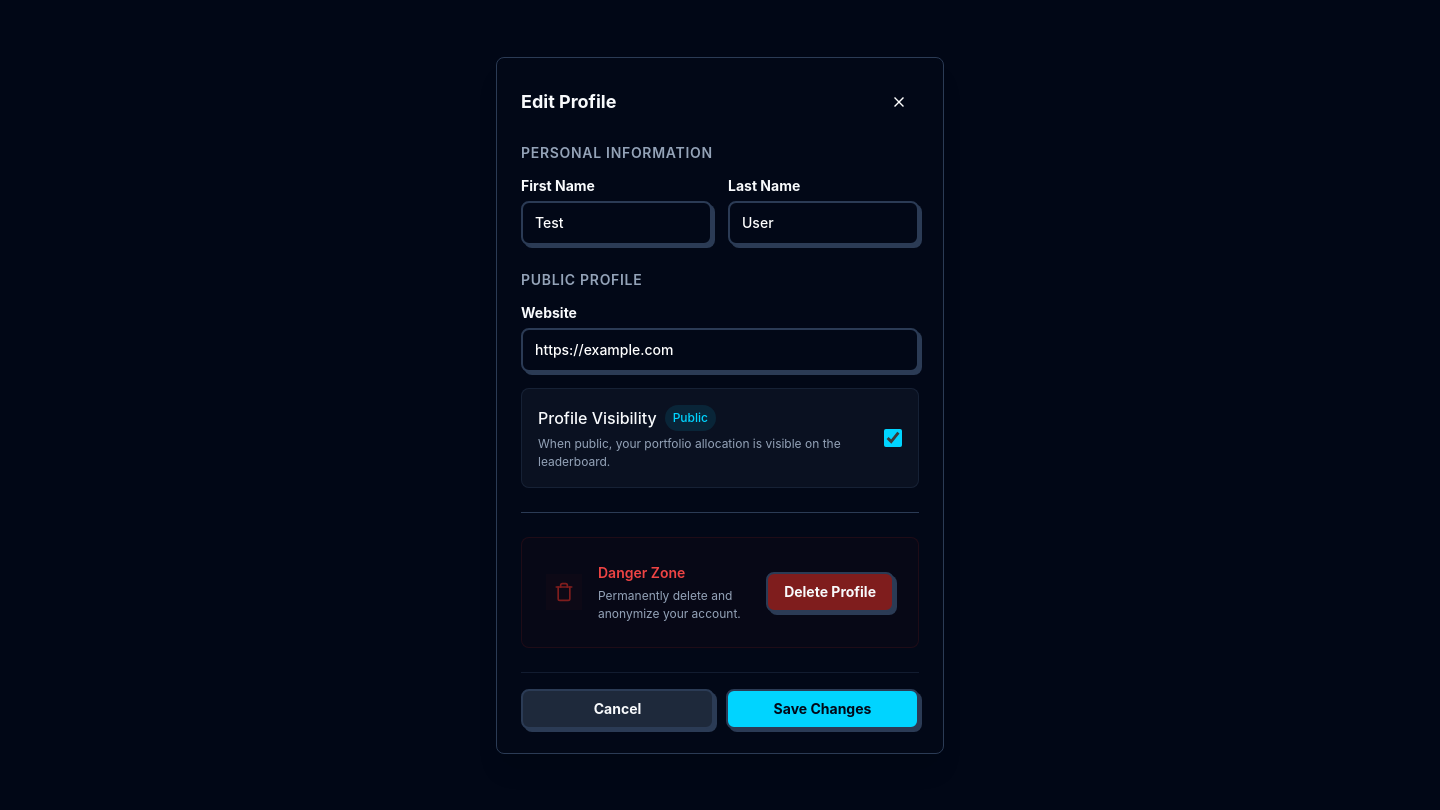
Test: EditProfileModal › renders backend error using ErrorMessage when profile update fails
Clear the field with test id "first-name-input" at (616, 222), box top-left (521, 200), bottom-right (712, 244)
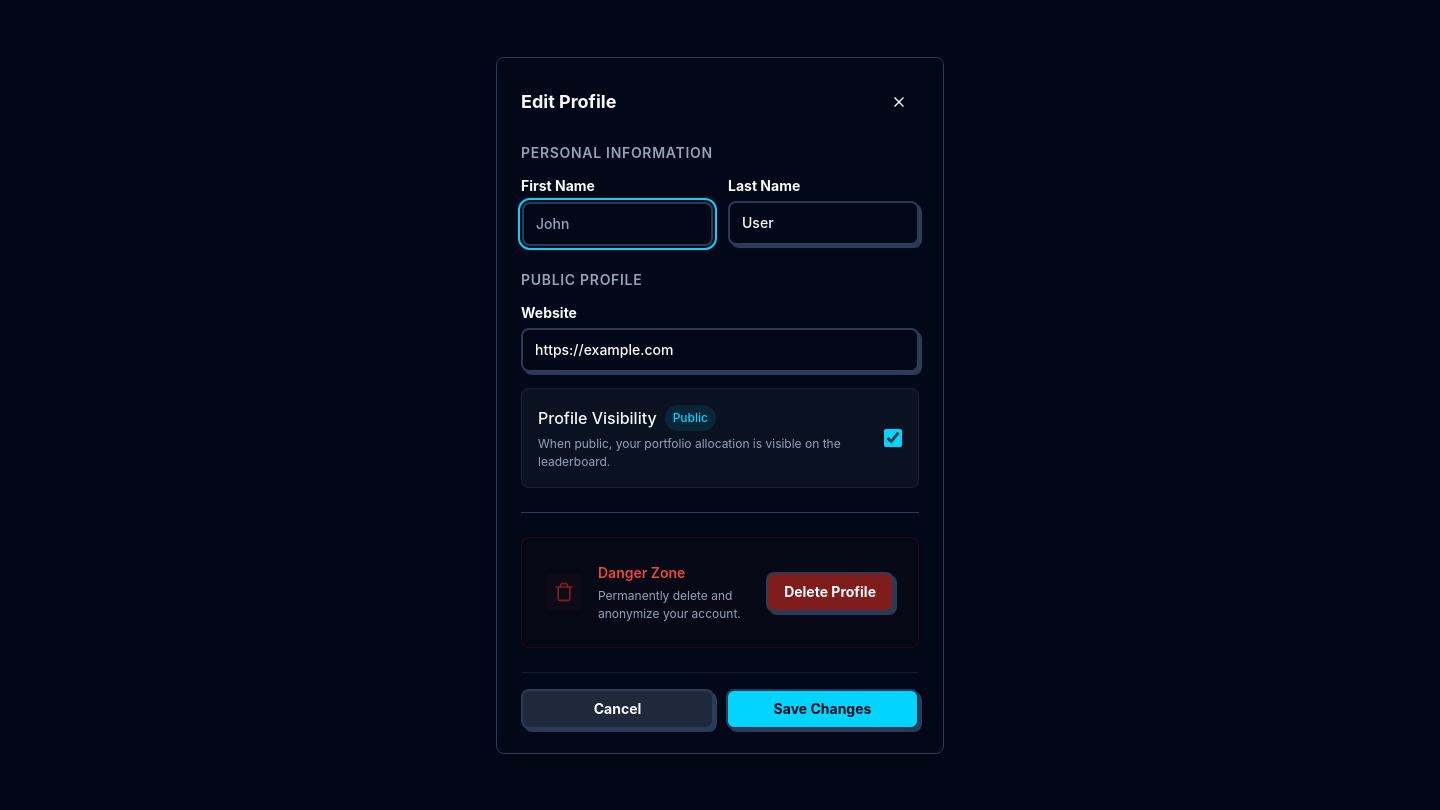
Type "NewName" into the field with test id "first-name-input" at (618, 224), box top-left (522, 202), bottom-right (713, 246)
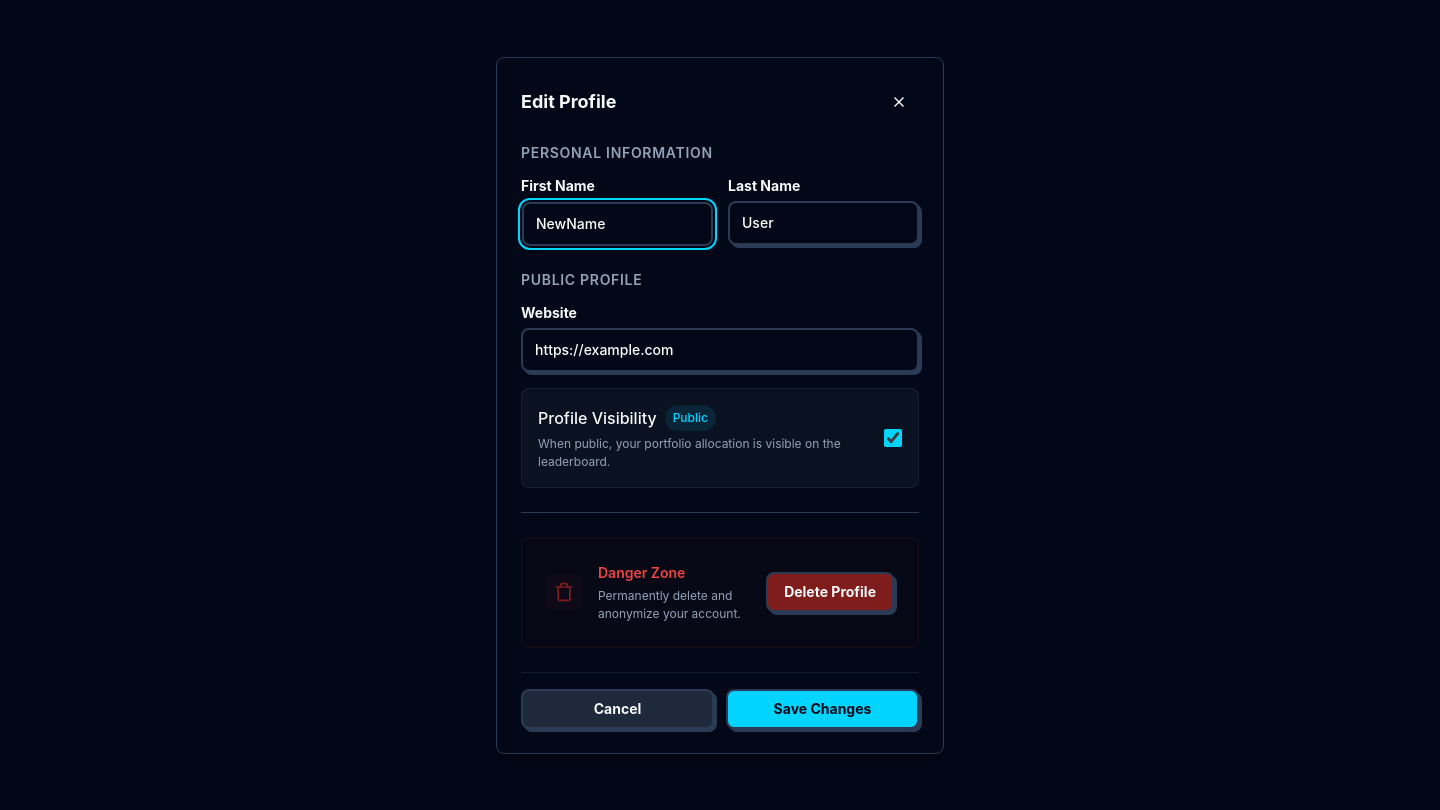
Click the button with test id "edit-profile-submit" at (822, 708), box top-left (726, 688), bottom-right (919, 728)
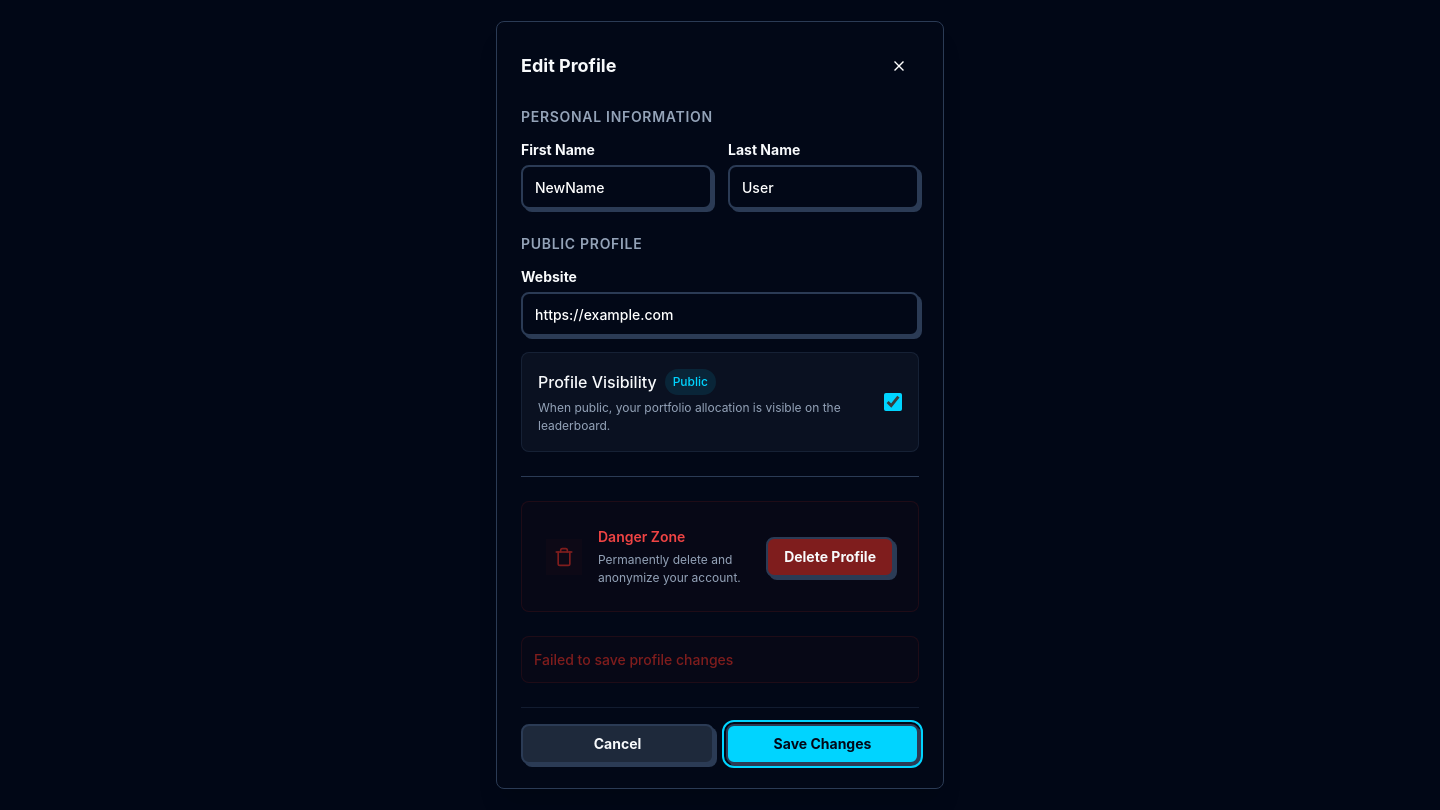
Expected: the message "Failed to save profile changes" is shown, top-left (521, 636), bottom-right (919, 683)
Expected: the message with test id "error-message" reads "Failed to save profile changes", top-left (534, 651), bottom-right (733, 668)
